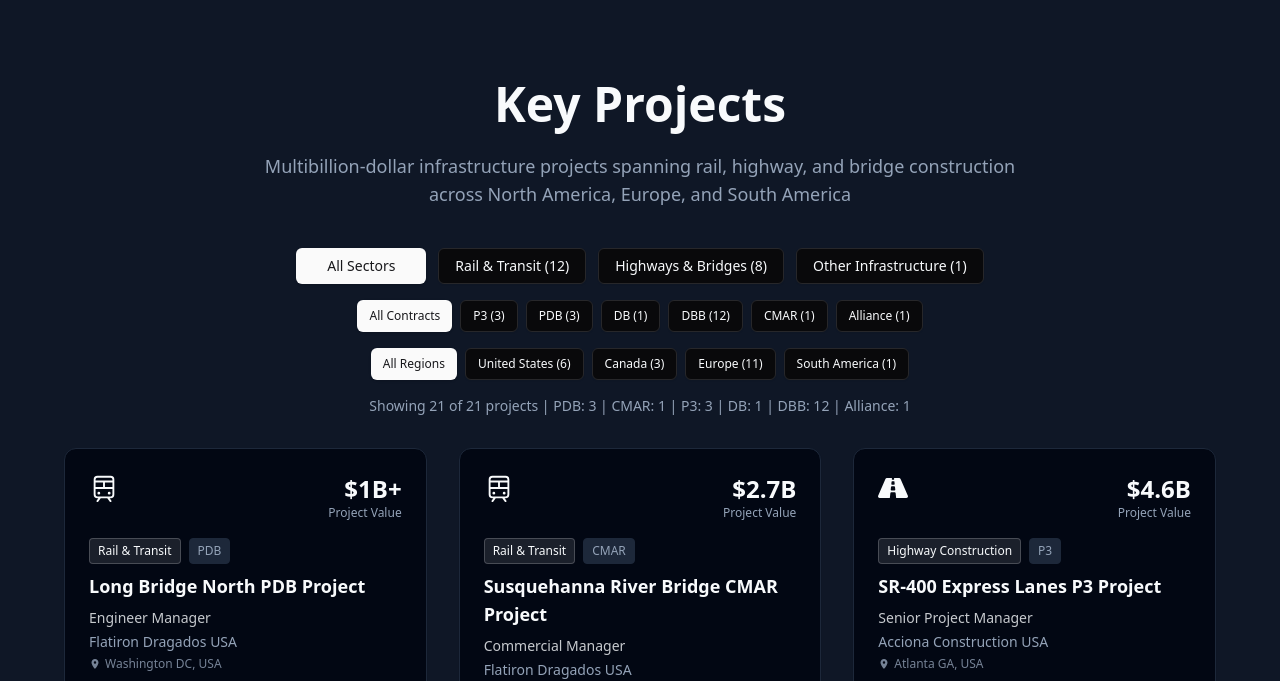
Test case: filters projects by region and restores all projects
Click the button "Canada (3)" at (634, 364), box [592,348,677,380]
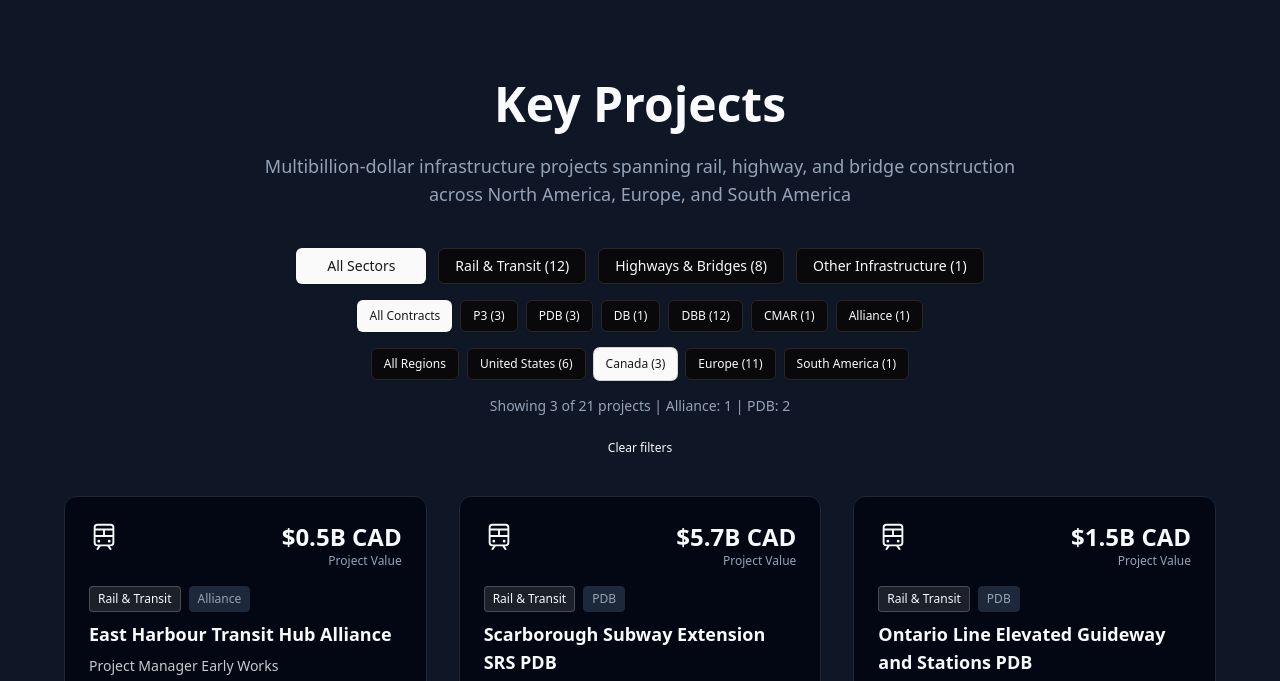
Click the button "Clear filters" at (640, 448), box [596,432,684,464]
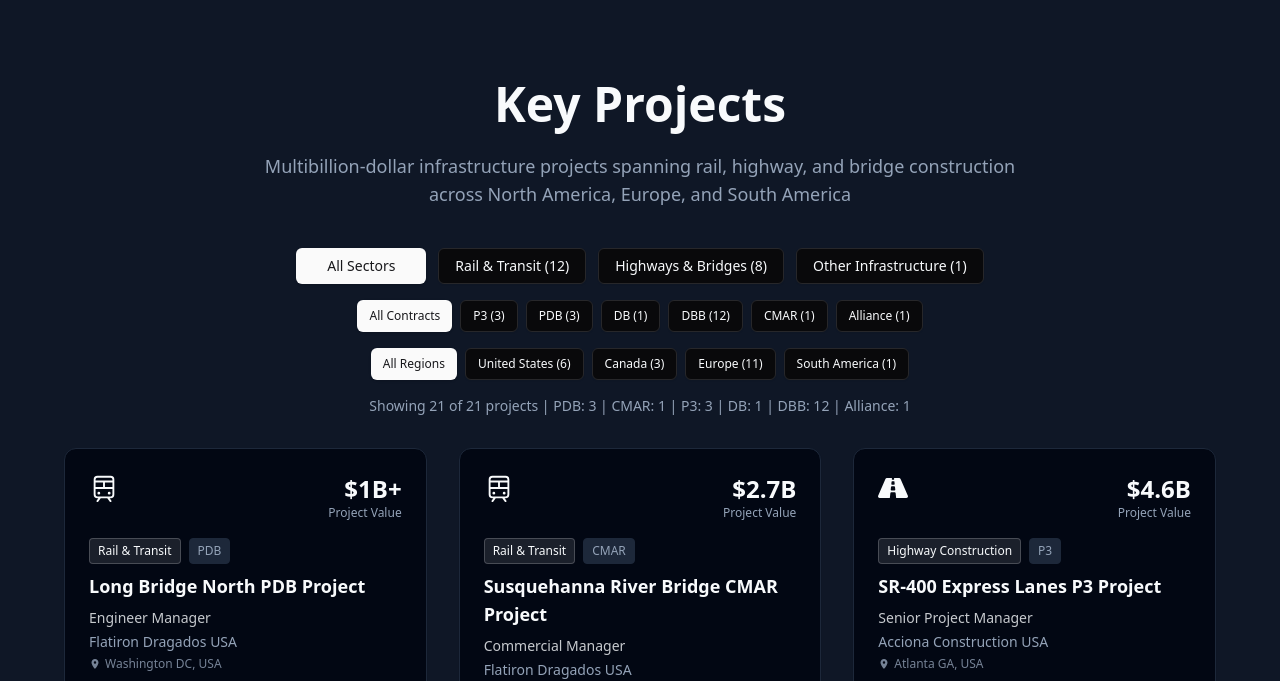
Now the number of buttons named "View details for " is 21
